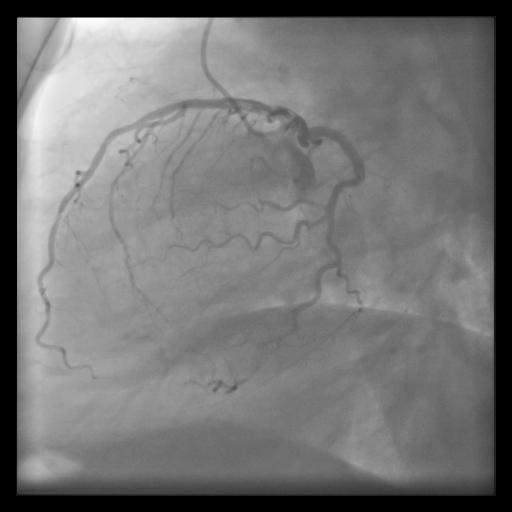Stenosis: (269, 104, 278, 120)
